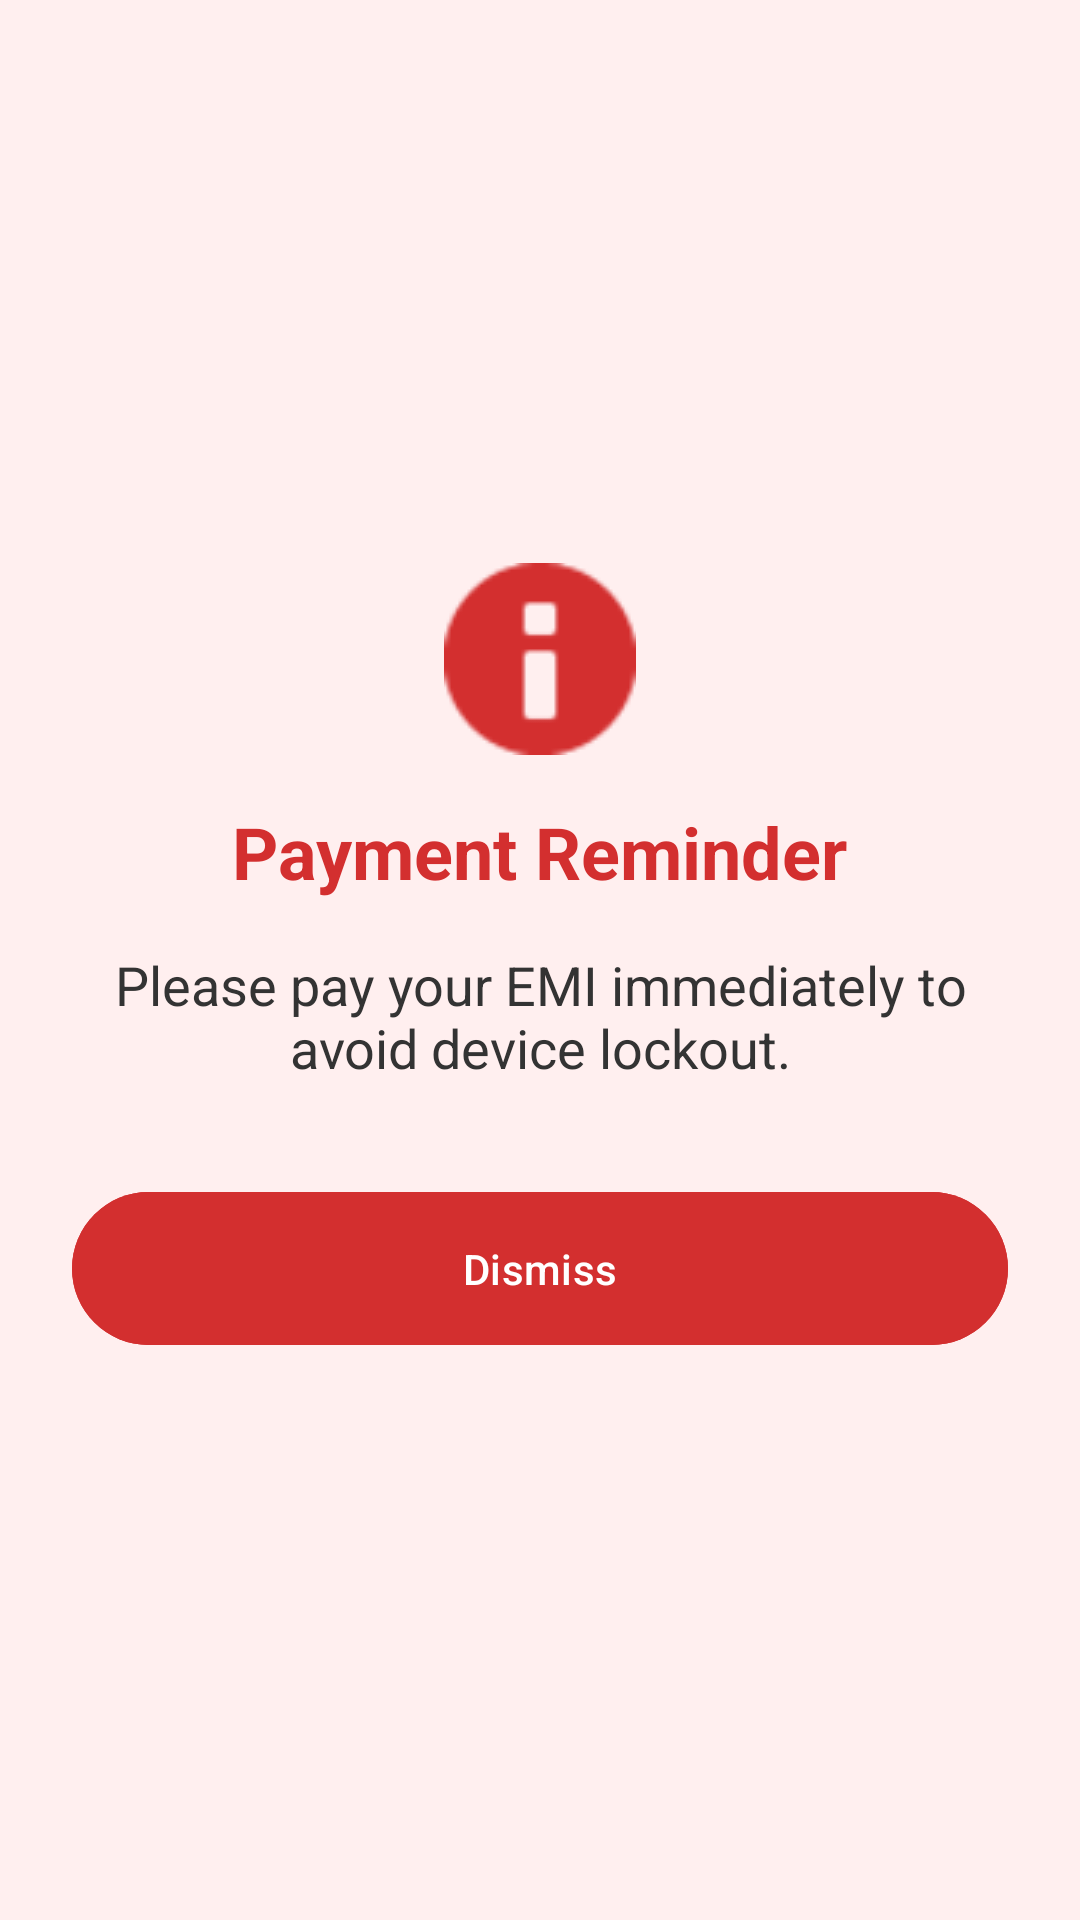

Screen size 1080px x 1920px. Icon name, then its center in pixels as point (x, y):
info: point (540, 659)
